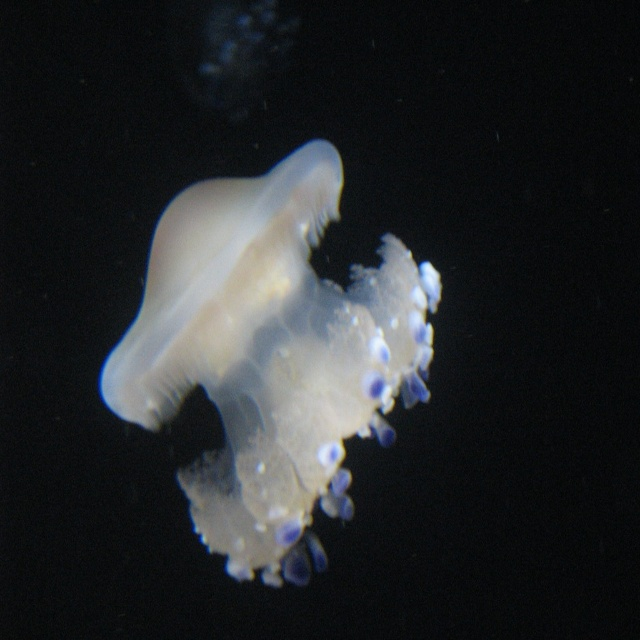Jellyfish: (97, 130, 448, 586)
